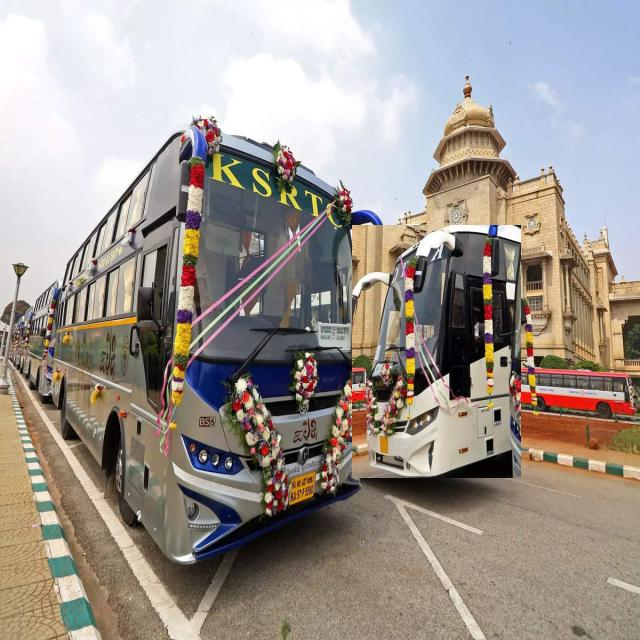bus: (29, 118, 368, 566), (352, 225, 521, 478), (507, 367, 638, 419)
